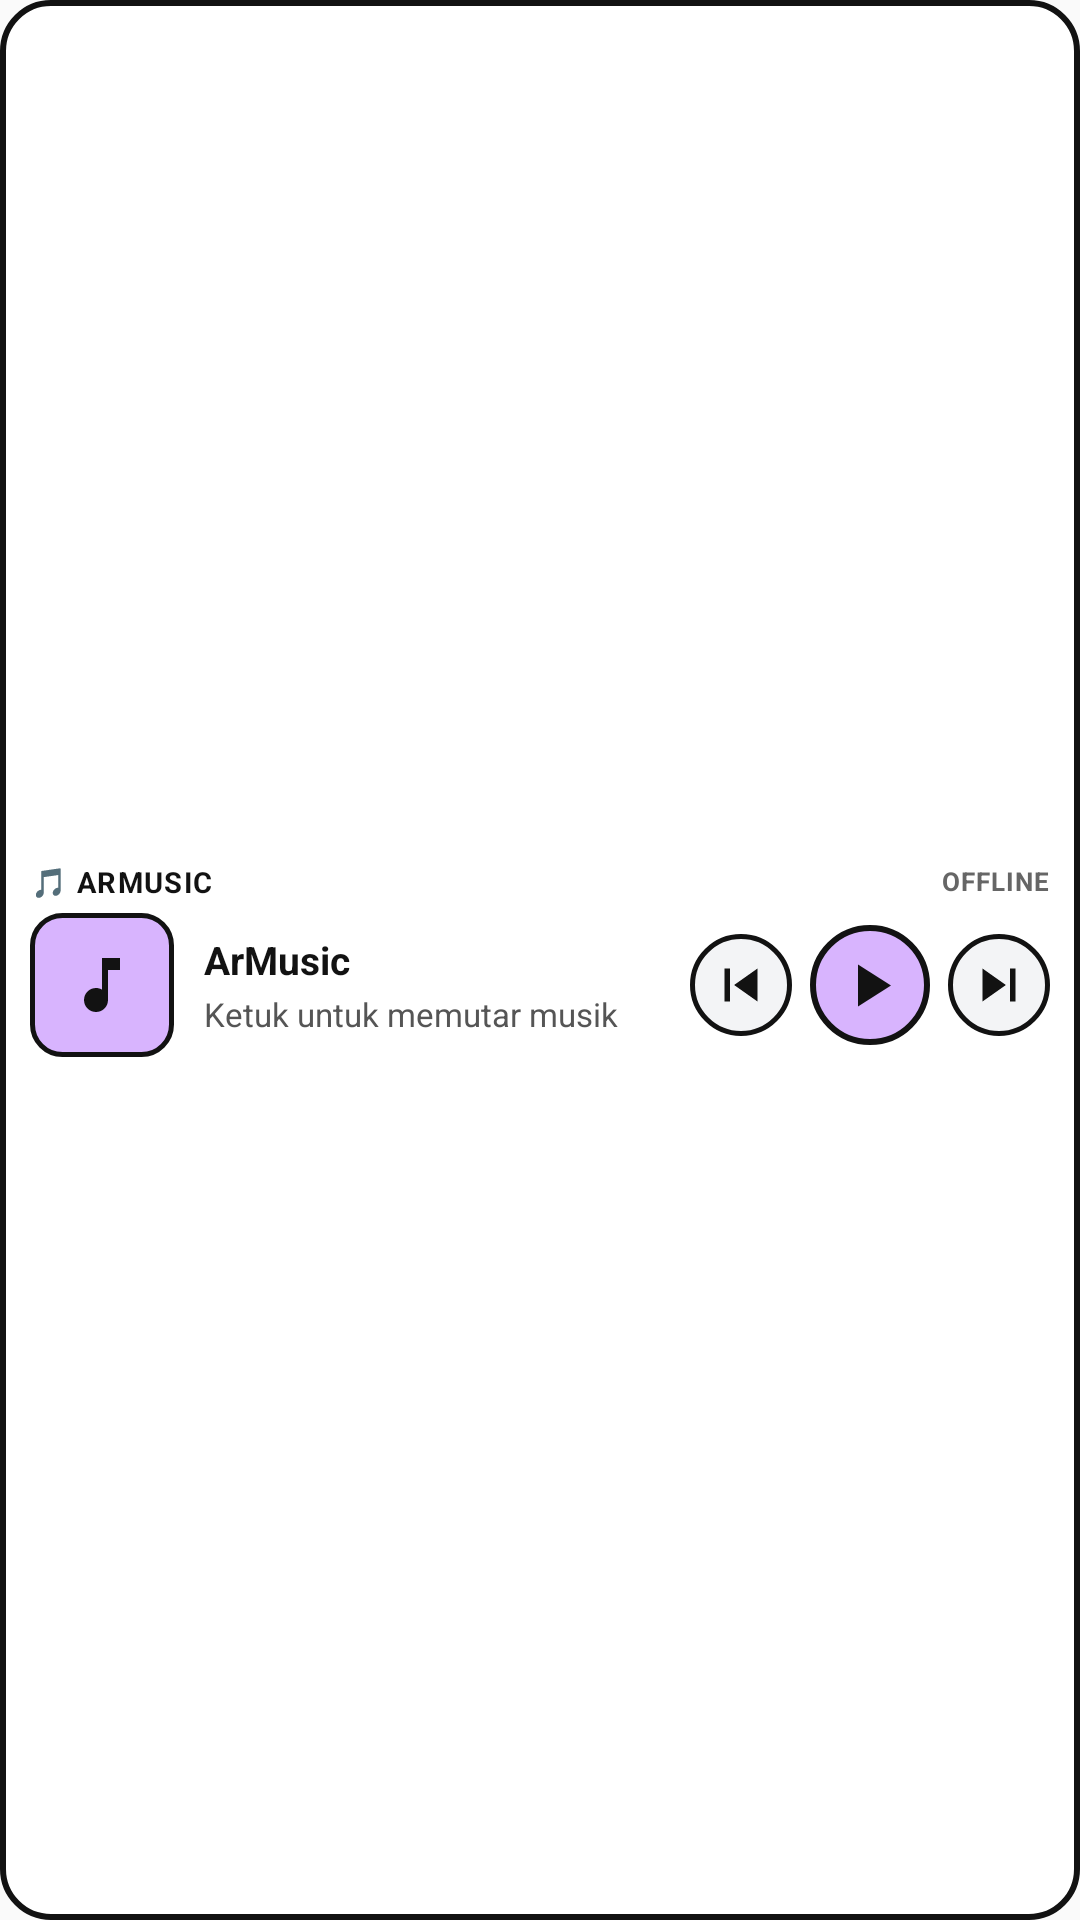

Icons on this 1080*1920 Android screen, each with its box as [left=x1, top=y1, right=x2, bottom=y2]:
Cover Lagu: [left=30, top=913, right=174, bottom=1057]
Lagu Berikutnya: [left=948, top=934, right=1050, bottom=1036]
Lagu Sebelumnya: [left=690, top=934, right=792, bottom=1036]
Putar atau Jeda: [left=810, top=925, right=930, bottom=1045]
